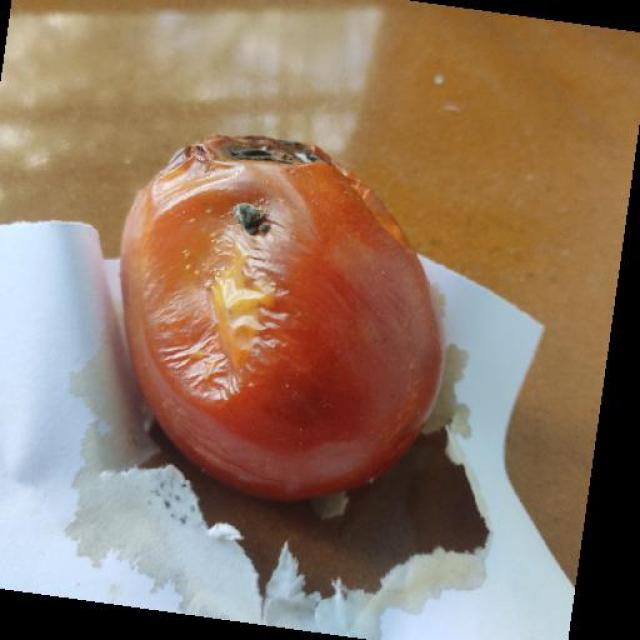Stale_tomato: (136, 136, 448, 457)
